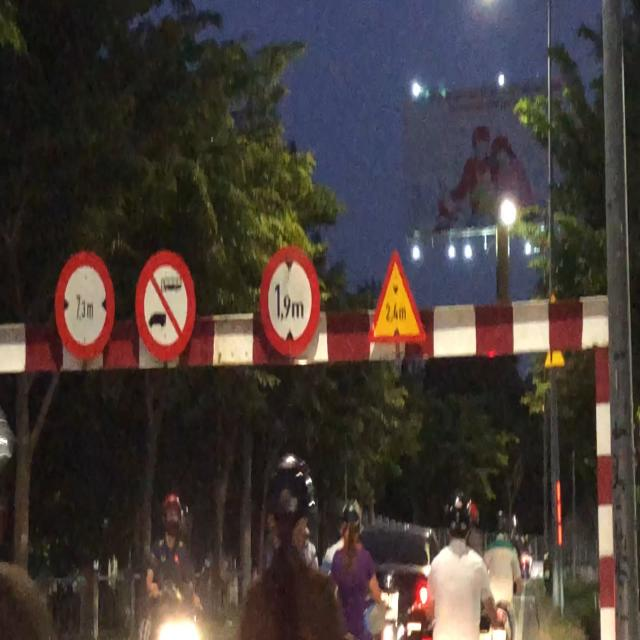Bien bao cam xe oto khach va xe oto tai: (133, 248, 201, 364)
Bien bao chieu cao tinh khong thuc te: (364, 241, 426, 355)
Bien bao han che chieu cao: (256, 241, 328, 365)
